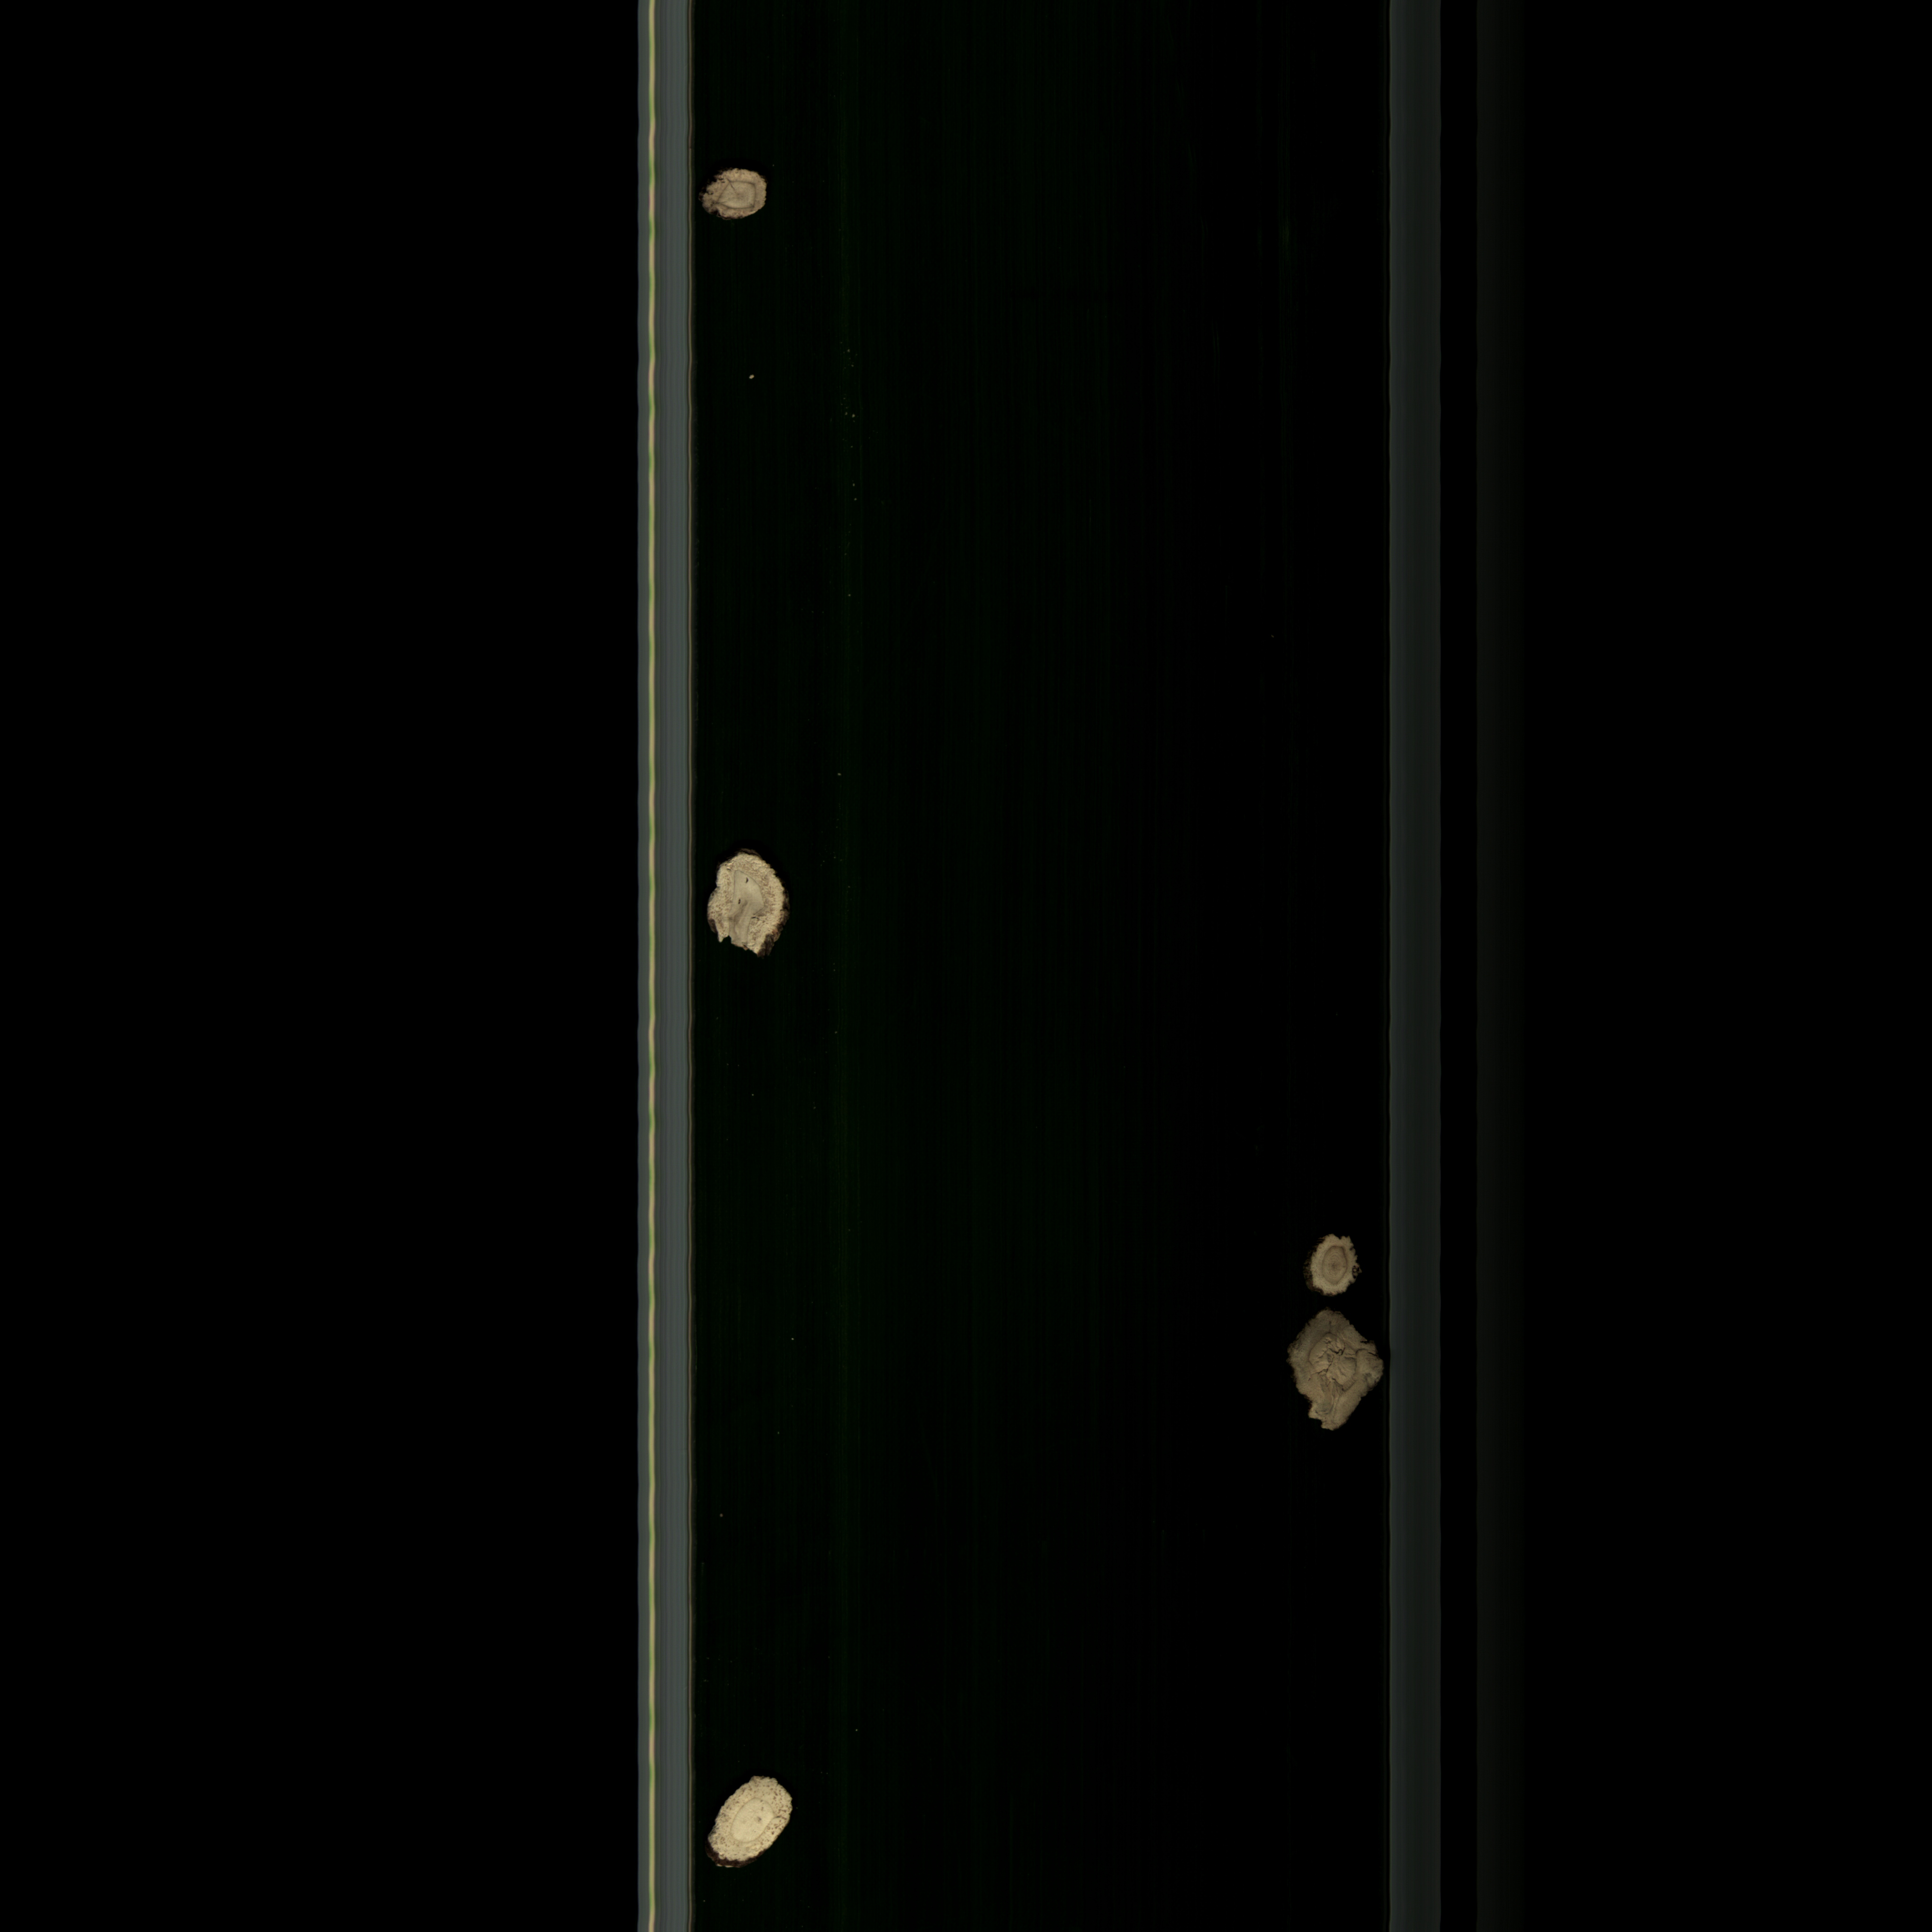debris: (701, 851, 801, 973)
moldy: (1274, 1302, 1392, 1444), (694, 157, 791, 232), (1302, 1228, 1371, 1299)
